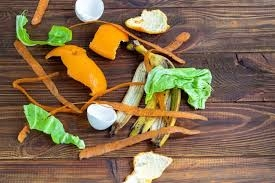kitchen_waste: (78, 123, 207, 161), (46, 41, 115, 100), (88, 94, 211, 126), (85, 20, 133, 60), (123, 5, 177, 35), (83, 99, 120, 131), (71, 1, 112, 22)
paper: (144, 60, 224, 112), (15, 103, 89, 149), (13, 9, 71, 50)
